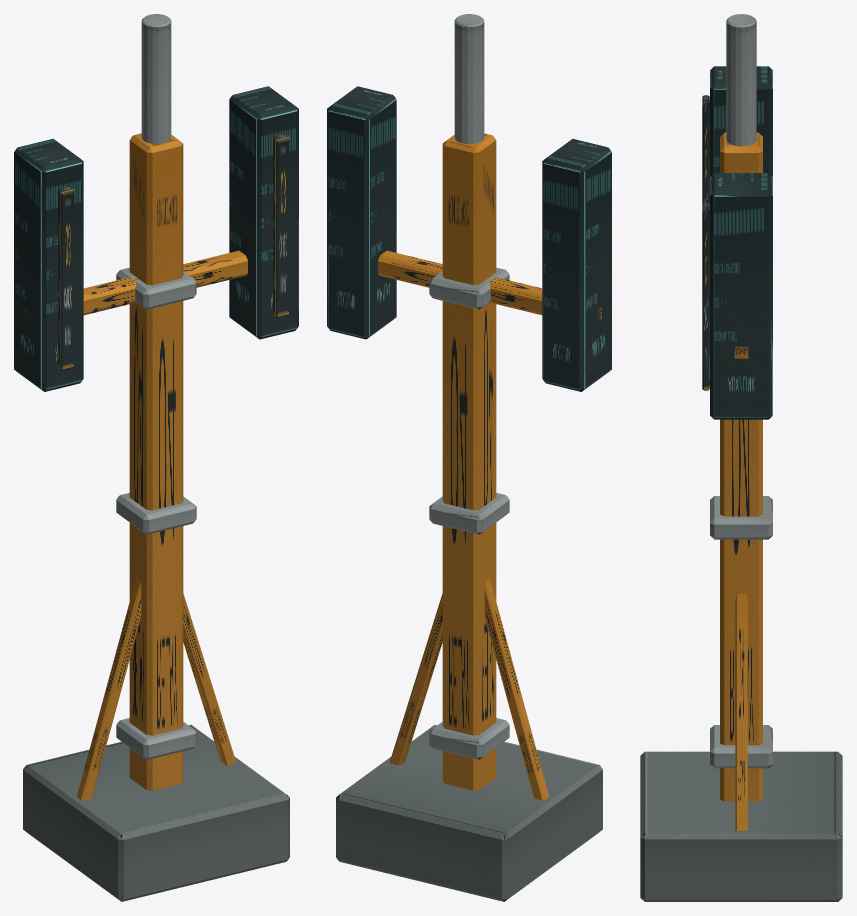
Rendered from relay_mast_LOD0.obj.
3 views of the same model, side by side, from view 1: azimuth 30°, elevation 25°; view 2: azimuth 150°, elevation 25°; view 3: azimuth 270°, elevation 25° (orthographic).
Parts seen in each view (by area): view 1: L02_relay_mast_LOD0; view 2: L02_relay_mast_LOD0; view 3: L02_relay_mast_LOD0.
Part boxes in pixels (x1,y1,x2,y2): L02_relay_mast_LOD0: [14, 14, 298, 901]; L02_relay_mast_LOD0: [327, 14, 611, 901]; L02_relay_mast_LOD0: [640, 14, 842, 901].
Size of the model in its own units: 2.4 by 7.35 by 1.6.
1 material, 1 textured.
